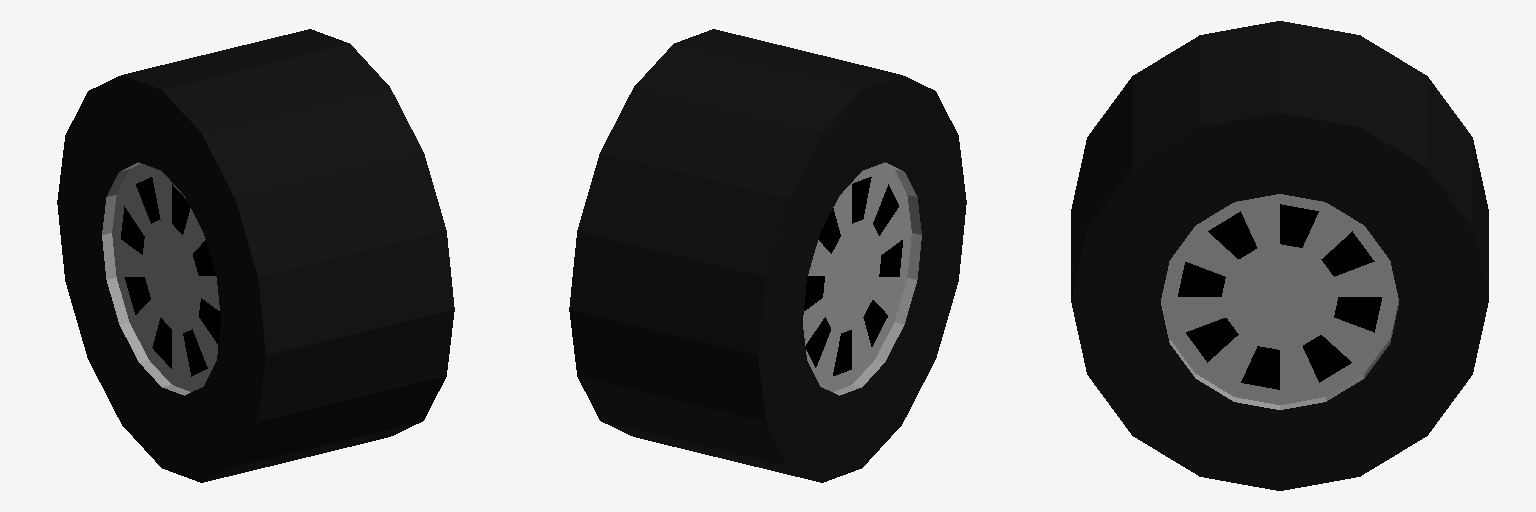
Rendered from tire.obj.
The picture shows the model from 3 angles: view 1: azimuth 30°, elevation 25°; view 2: azimuth 150°, elevation 25°; view 3: azimuth 270°, elevation 25°; orthographic projection.
Parts seen in each view (by area): view 1: cylinder2_copy3; view 2: cylinder2_copy3; view 3: cylinder2_copy3.
Part boxes in pixels (bbox=[...]): cylinder2_copy3: bbox=[57, 29, 454, 482]; cylinder2_copy3: bbox=[569, 29, 966, 482]; cylinder2_copy3: bbox=[1071, 21, 1488, 490].
Size of the model in its own units: 0.3236 by 0.62 by 0.62.